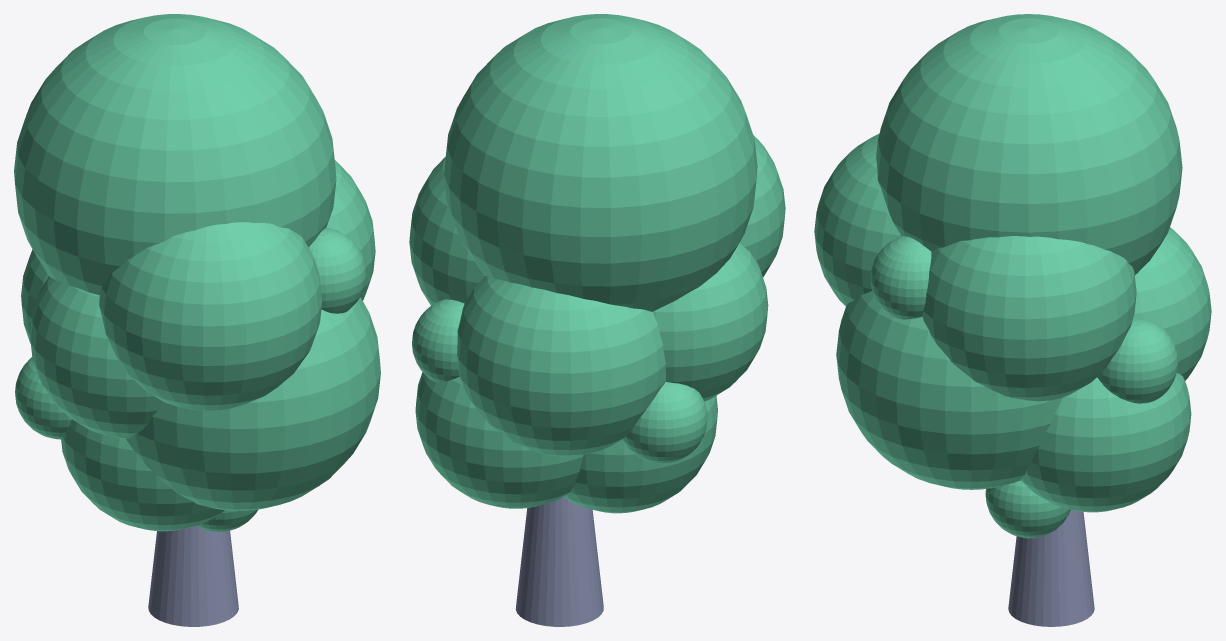
Rendered from Cotton_Candy_Tree.fbx.
3 renders of one model, left to right at view 1: azimuth 30°, elevation 25°; view 2: azimuth 150°, elevation 25°; view 3: azimuth 270°, elevation 25°, orthographic. The views are drawn at different scales.
Parts seen in each view (by area): view 1: Sphere, Cylinder; view 2: Sphere, Cylinder; view 3: Sphere, Cylinder.
Part boxes in pixels (x1,y1,x2,y2): Sphere: (14, 14, 380, 531); Cylinder: (148, 525, 238, 626); Sphere: (409, 14, 785, 513); Cylinder: (515, 497, 603, 626); Sphere: (814, 14, 1211, 538); Cylinder: (1008, 509, 1094, 626).
Size of the model in its own units: 1031 by 1785 by 1135.
